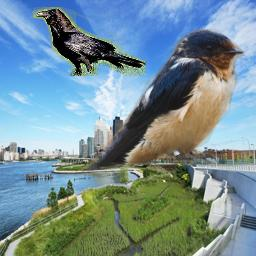Crow: (33, 7, 146, 76)
Swallow: (81, 28, 247, 174)
